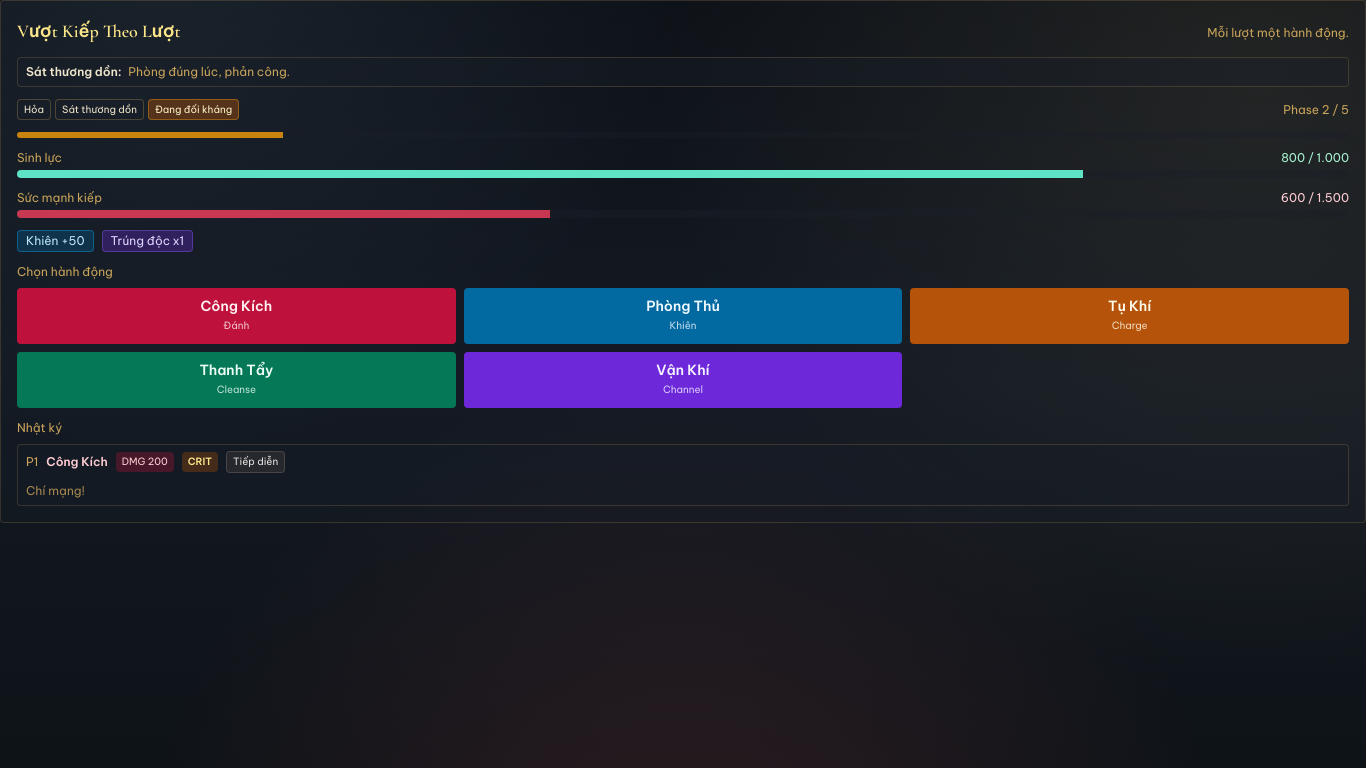
Scenario: TribulationMiniBattlePanel — render & interactions › 9. API error renders friendly i18n error
Click the button with test id "tribulation-mini-battle-action-attack": point(236, 316) [17,288,456,344]
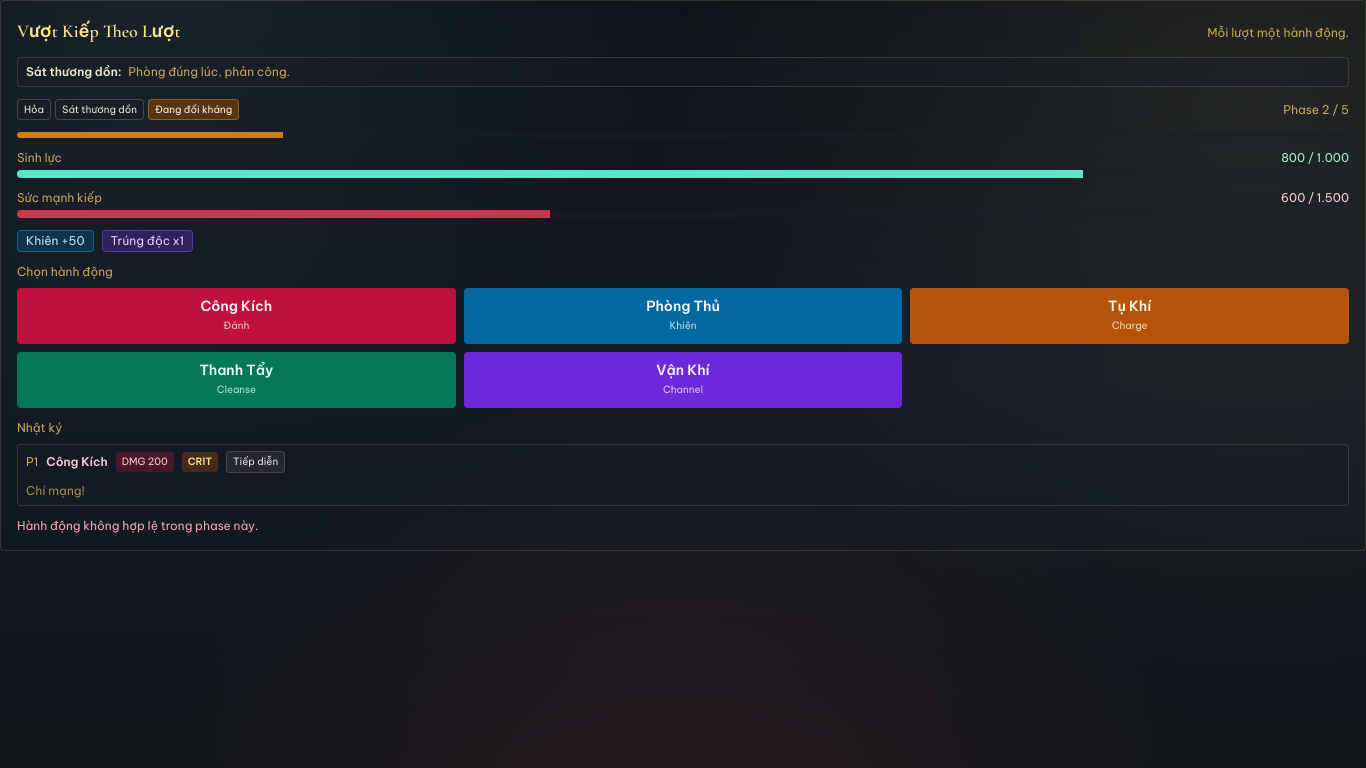
Expected: the text with test id "tribulation-mini-battle-error" shows "Hành động không hợp lệ trong phase này", [17,518,258,533]
